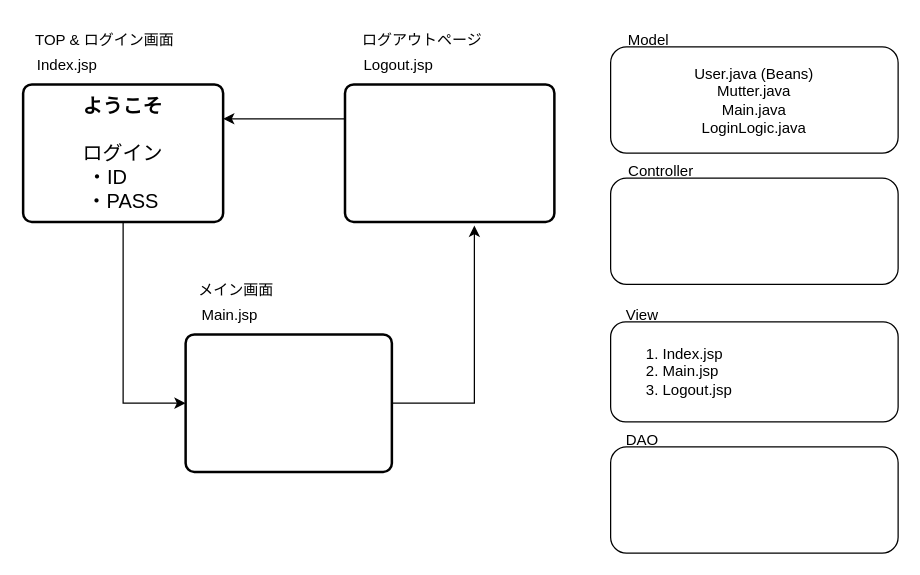
This 920x575 diagram has some shape labels left out. Here are the shapes that lost their labels. From the top down, the box of each, then its label:
(343, 82, 555, 222): ログアウト ・TOPにもどる
(184, 332, 392, 472): ログイン成功 掲示板みたいな ・日時API ・DB接続 ・ログアウト
